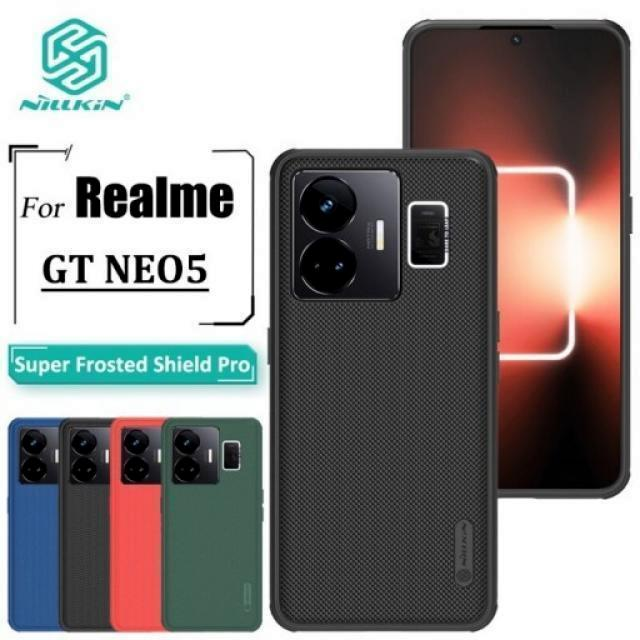lens_back: (297, 176, 370, 235), (300, 232, 360, 298), (168, 453, 207, 487), (117, 452, 154, 487), (167, 427, 205, 456), (68, 428, 103, 458), (20, 458, 52, 490), (18, 432, 52, 459), (118, 427, 150, 455), (68, 458, 102, 484)
phone: (268, 138, 507, 633), (160, 415, 265, 634)
